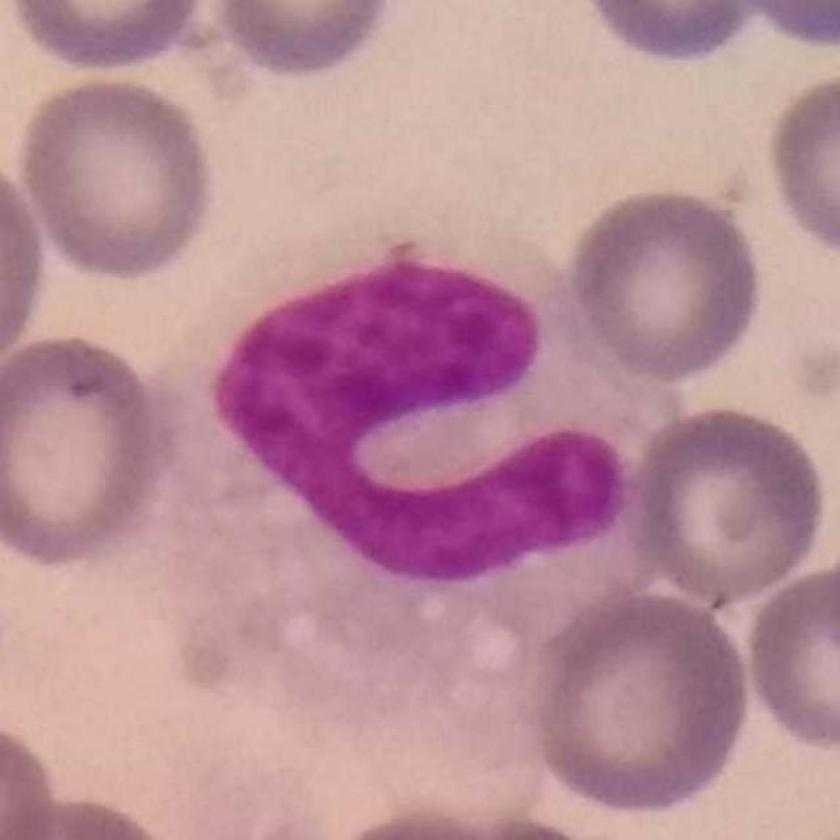monocyte: (139, 206, 694, 757)
